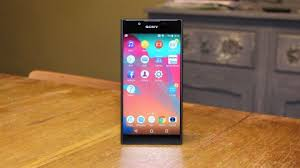sony: (116, 18, 185, 148)
